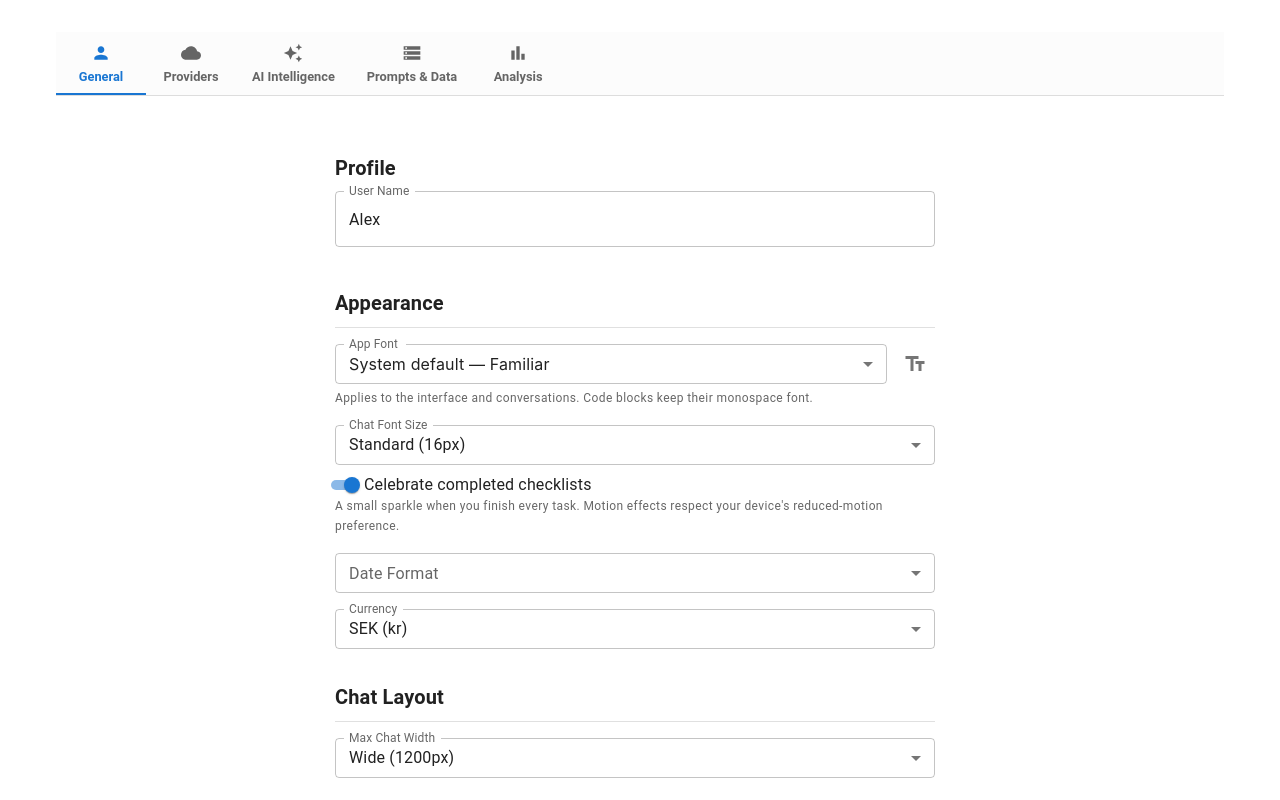
Test case: Settings page › shows summary model dropdown when aiSummaryEnabled is true
Click the tab "AI Intelligence" at {"x": 293, "y": 64}, box [236, 32, 351, 96]
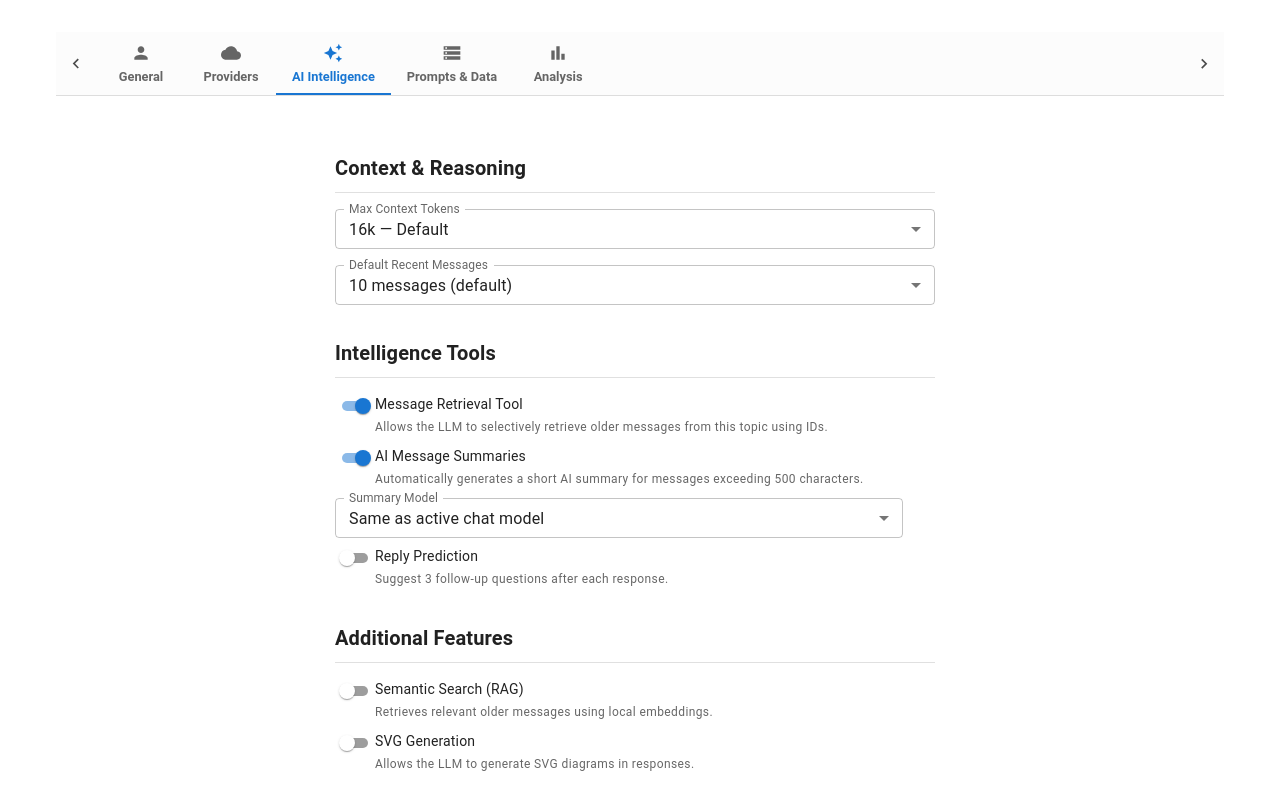
Result: the dropdown "Same as active chat model" is shown at [349, 508, 544, 528]
